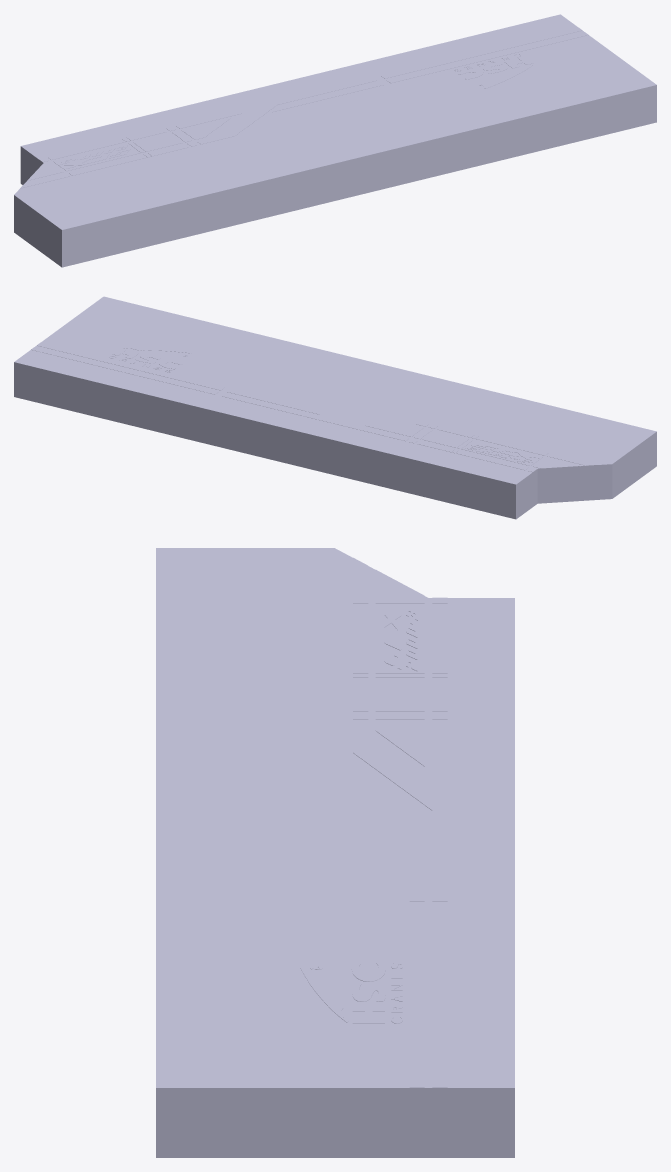
Rendered from HOUSE_L.obj.
3 views of the same model, one above another, from view 1: azimuth 30°, elevation 25°; view 2: azimuth 150°, elevation 25°; view 3: azimuth 270°, elevation 25° (orthographic). The views are drawn at different scales.
Parts seen in each view (by area): view 1: SCX2000-3_HOUSE_L_000_1-HSC_SCX2000-3_HOUSE_L (Meshed); view 2: SCX2000-3_HOUSE_L_000_1-HSC_SCX2000-3_HOUSE_L (Meshed); view 3: SCX2000-3_HOUSE_L_000_1-HSC_SCX2000-3_HOUSE_L (Meshed).
Boxes of the visible parts, x1=… form: SCX2000-3_HOUSE_L_000_1-HSC_SCX2000-3_HOUSE_L (Meshed): x1=14, y1=14, x2=656, y2=267; SCX2000-3_HOUSE_L_000_1-HSC_SCX2000-3_HOUSE_L (Meshed): x1=14, y1=296, x2=656, y2=519; SCX2000-3_HOUSE_L_000_1-HSC_SCX2000-3_HOUSE_L (Meshed): x1=156, y1=548, x2=514, y2=1157.
Size of the model in its own units: 3784 by 230 by 1062.
